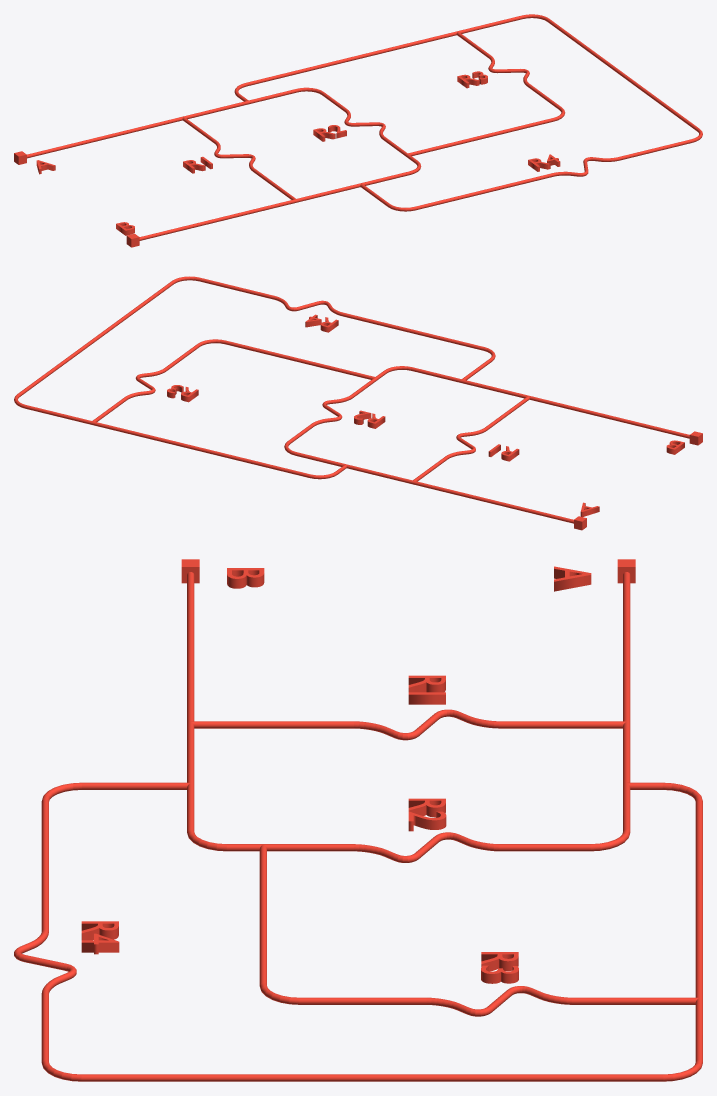
The model's file is Diagrama 2 rojo.glb.
3 views of the same model, one above another, from view 1: azimuth 30°, elevation 25°; view 2: azimuth 150°, elevation 25°; view 3: azimuth 270°, elevation 25° (orthographic). The views are drawn at different scales.
Visible parts, largest first — view 1: Linea03, Linea01, Linea04, Linea02; view 2: Linea03, Linea01, Linea04, Linea02; view 3: Linea03, Linea01, Linea04, Linea02, Text.005, Text.003, Text.004, Text.002.
Part boxes in pixels (<box>): Linea03: <box>234,14,702,211</box>; Linea01: <box>27,87,421,240</box>; Linea04: <box>408,31,565,155</box>; Linea02: <box>182,116,295,199</box>; Linea03: <box>14,276,495,479</box>; Linea01: <box>284,366,689,523</box>; Linea04: <box>92,339,375,421</box>; Linea02: <box>413,396,529,481</box>; Linea03: <box>14,782,702,1081</box>; Linea01: <box>187,572,630,862</box>; Linea04: <box>259,844,698,1016</box>; Linea02: <box>191,709,626,740</box>; Text.005: <box>81,921,119,954</box>; Text.003: <box>408,798,446,831</box>; Text.004: <box>481,952,518,983</box>; Text.002: <box>408,675,445,704</box>.
Size of the model in its own units: 3.33 by 0.05 by 1.9.
